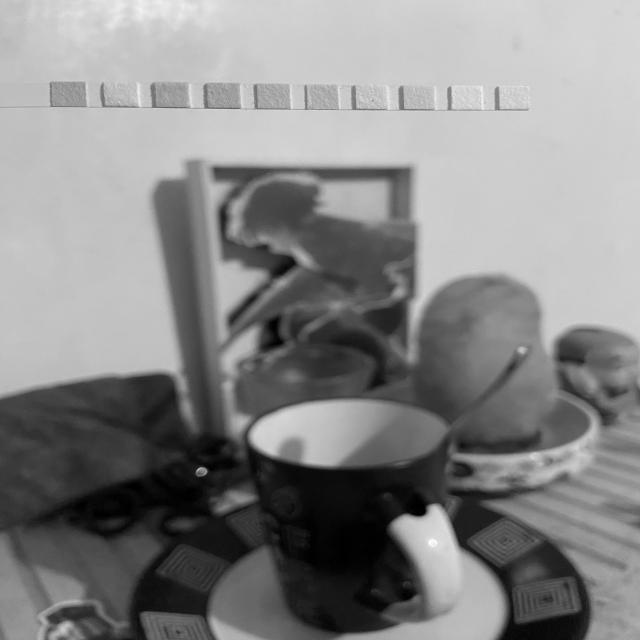Bilirubin: (103, 82, 138, 106)
Blood: (258, 83, 290, 109)
Glucose: (51, 82, 87, 107)
Ketone: (154, 82, 190, 107)
Leukocytes: (500, 86, 530, 110)
Nitrite: (450, 86, 482, 110)
Protein: (356, 84, 388, 109)
SpGravity: (207, 82, 241, 109)
Urobilinogen: (402, 85, 436, 110)
background: (0, 0, 640, 640)
pH: (307, 85, 338, 110)
strip: (0, 83, 532, 109)
